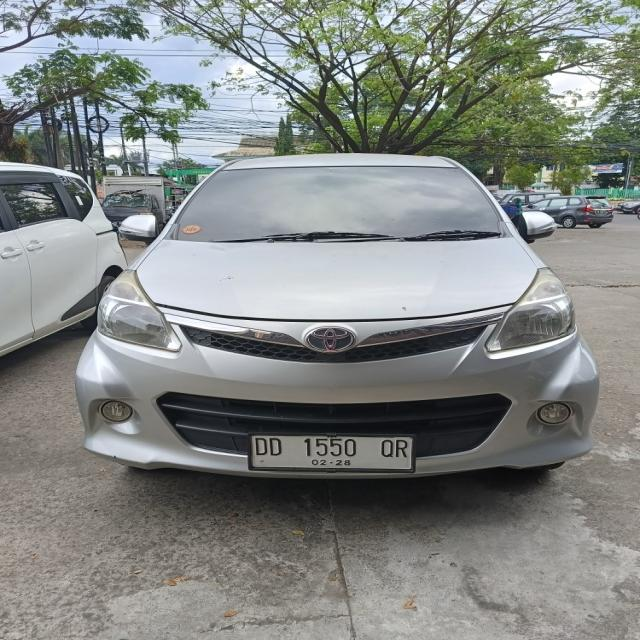plates: (252, 432, 420, 475)
